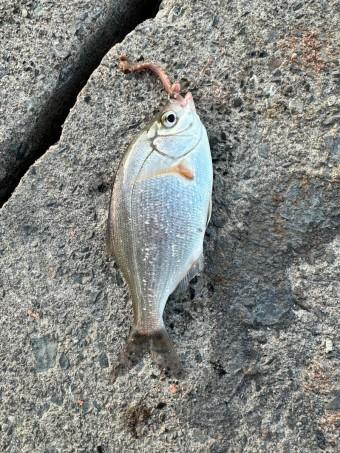fish: (107, 90, 213, 384)
